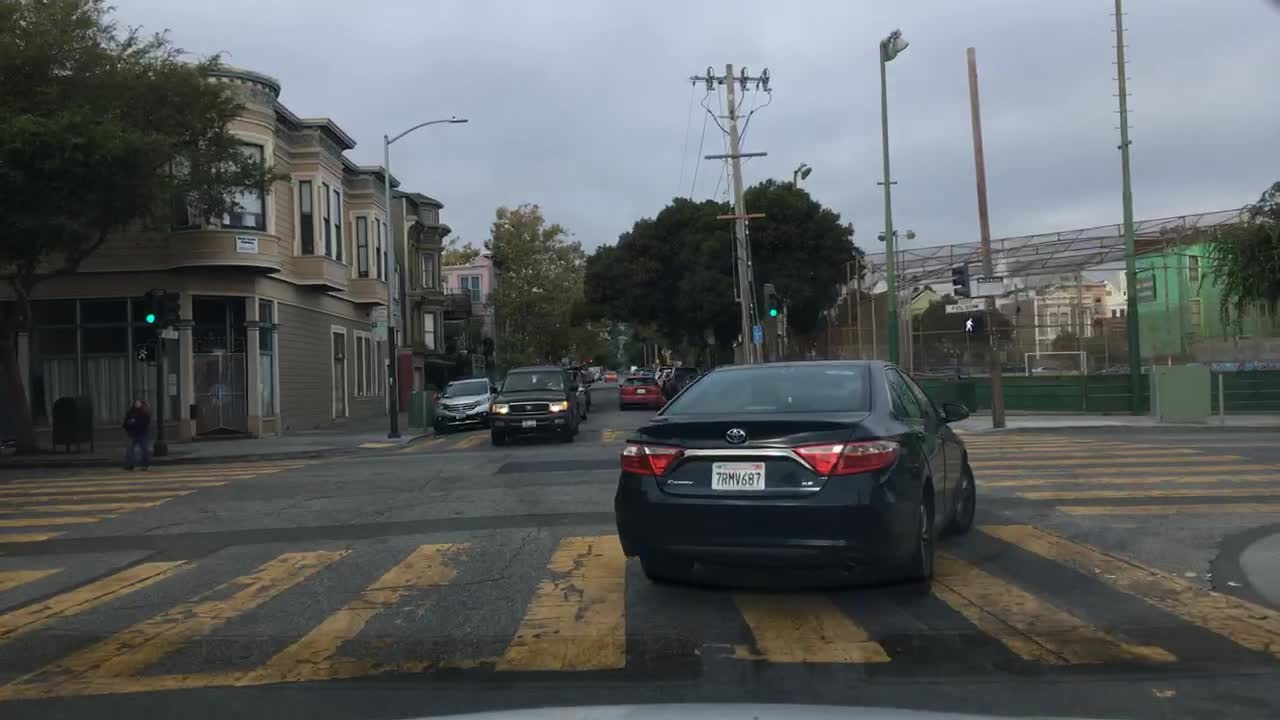car: (612, 360, 976, 597), (488, 365, 580, 447), (430, 377, 497, 435), (617, 377, 665, 409), (565, 368, 592, 424), (661, 366, 700, 399), (922, 364, 986, 377), (998, 364, 1033, 373), (653, 365, 669, 384), (657, 369, 674, 386), (579, 370, 595, 383), (1030, 365, 1059, 372), (604, 369, 617, 382), (594, 372, 605, 382)
person: (119, 396, 153, 472)
traffic light: (949, 264, 971, 298), (975, 275, 1003, 295), (163, 291, 180, 321), (141, 291, 155, 327), (763, 284, 777, 319), (963, 312, 985, 333), (943, 302, 984, 313), (135, 343, 152, 361), (751, 324, 763, 343), (369, 321, 387, 330), (161, 329, 177, 339)
